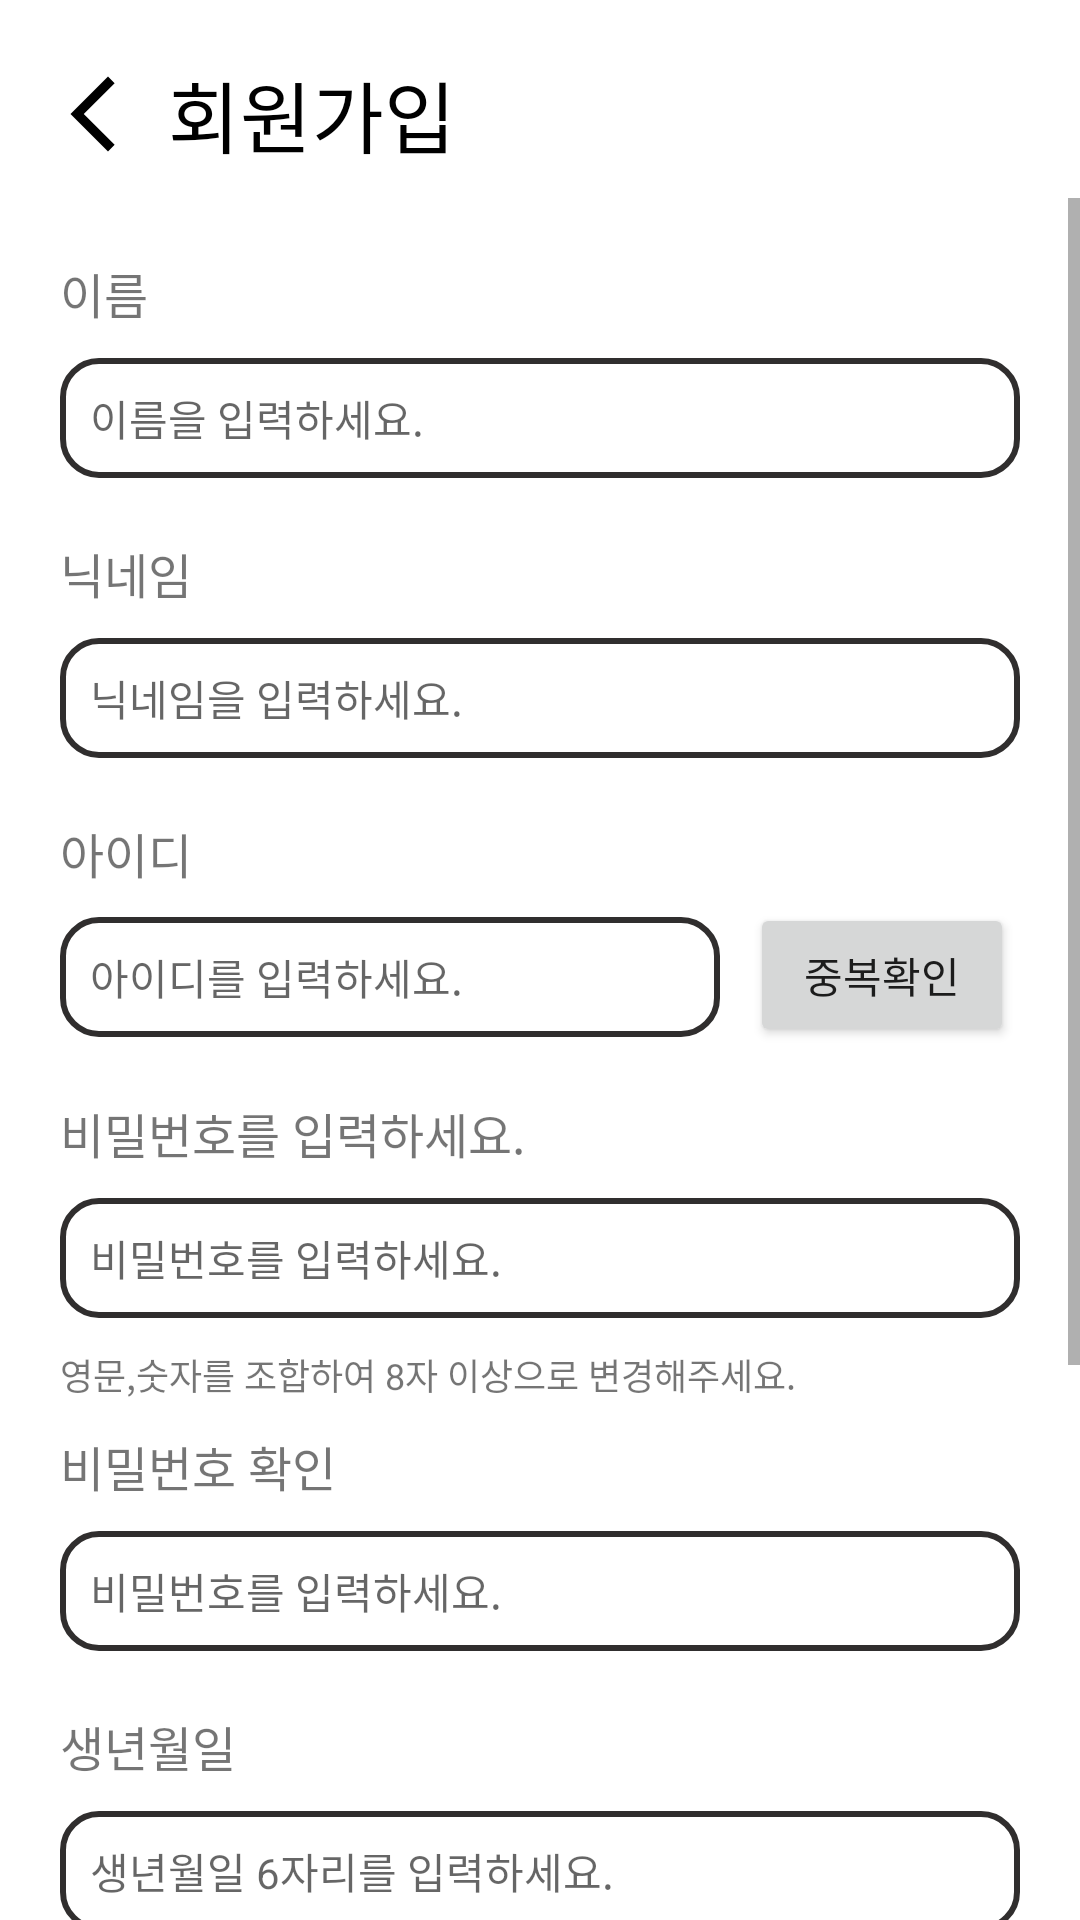

Locate icon controls on the screen. Image size 1080px×1920px, boxes as (x1, y1, x2, y2).
back: (70, 76, 115, 152)
